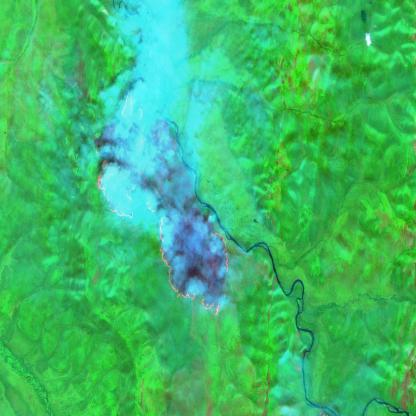fire: (95, 155, 229, 318)
